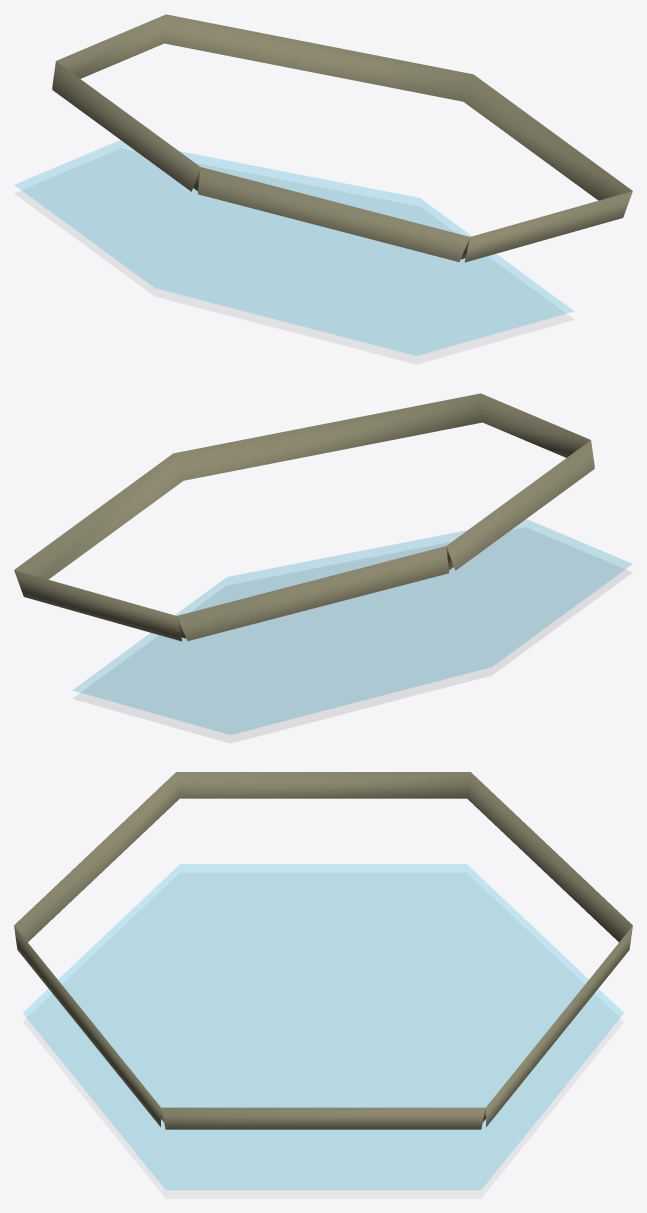
File: single-module.glb
The picture shows the model from 3 angles, top to bottom: view 1: azimuth 30°, elevation 25°; view 2: azimuth 150°, elevation 25°; view 3: azimuth 270°, elevation 25°; orthographic projection.
Visible parts, largest first — view 1: Dome_Frame.012, Dome_Frame.010, Dome_Frame.009; view 2: Dome_Frame.012, Dome_Frame.010, Dome_Frame.009; view 3: Dome_Frame.010, Dome_Frame.012, Dome_Frame.009.
Boxes of the visible parts, x1=… form: Dome_Frame.012: x1=14, y1=149, x2=573, y2=364; Dome_Frame.010: x1=15, y1=140, x2=573, y2=355; Dome_Frame.009: x1=52, y1=14, x2=632, y2=262; Dome_Frame.012: x1=73, y1=528, x2=632, y2=743; Dome_Frame.010: x1=73, y1=519, x2=631, y2=734; Dome_Frame.009: x1=14, y1=393, x2=594, y2=641; Dome_Frame.010: x1=23, y1=864, x2=623, y2=1189; Dome_Frame.012: x1=23, y1=873, x2=623, y2=1198; Dome_Frame.009: x1=14, y1=772, x2=632, y2=1129.
Size of the model in its own units: 1.49 by 0.726 by 1.67.
